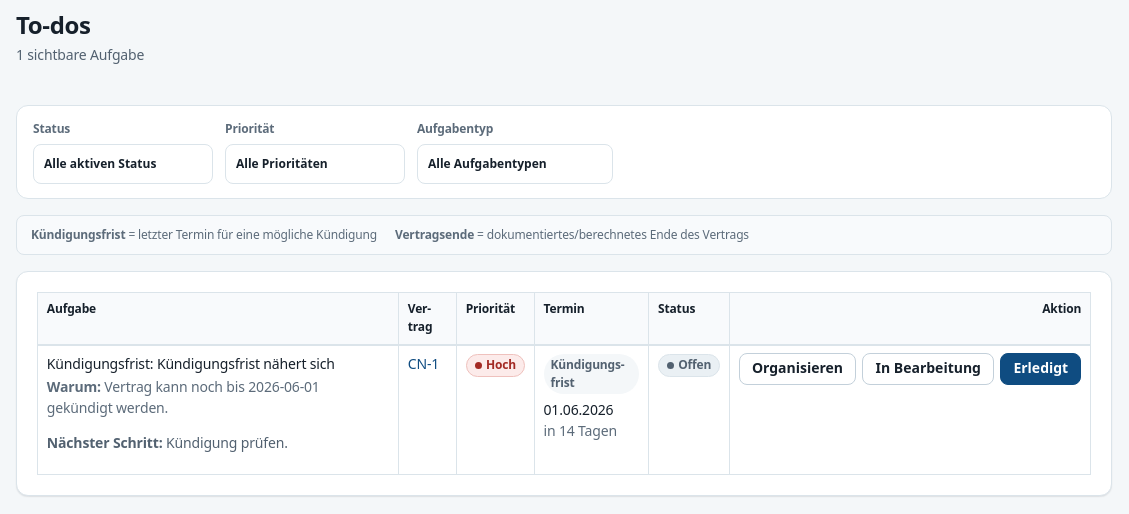
it: To-dos (PR-4 / FE-09) › erledigt einen Punkt (resolved) per PATCH und entfernt ihn aus der aktiven Liste
This screenshot has width=1129, height=514.
Click the button "Erledigt" at (1041, 369), box [1000,353,1081,385]
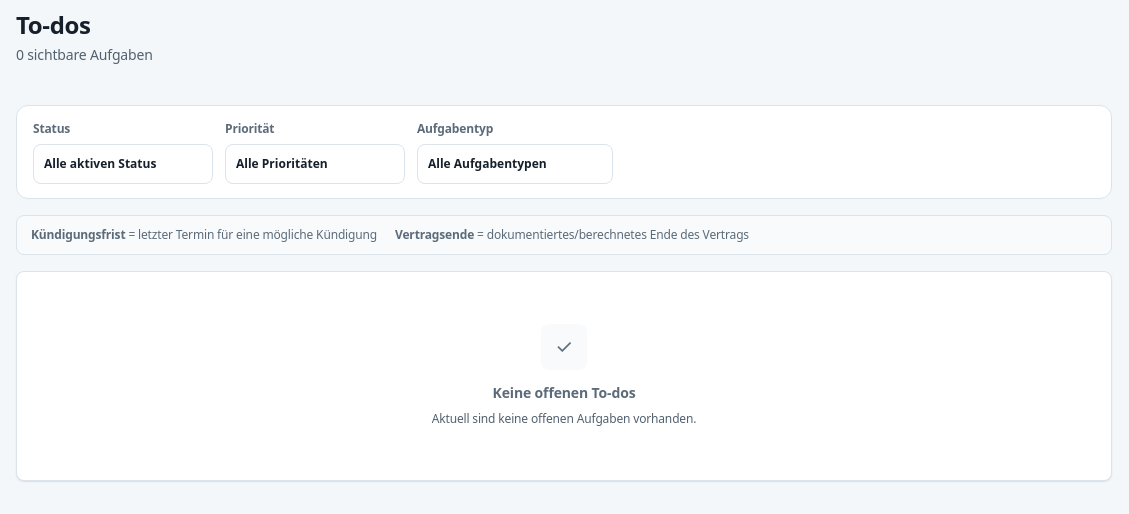
Result: the heading "Keine offenen To-dos" is shown at [492,383,636,402]
